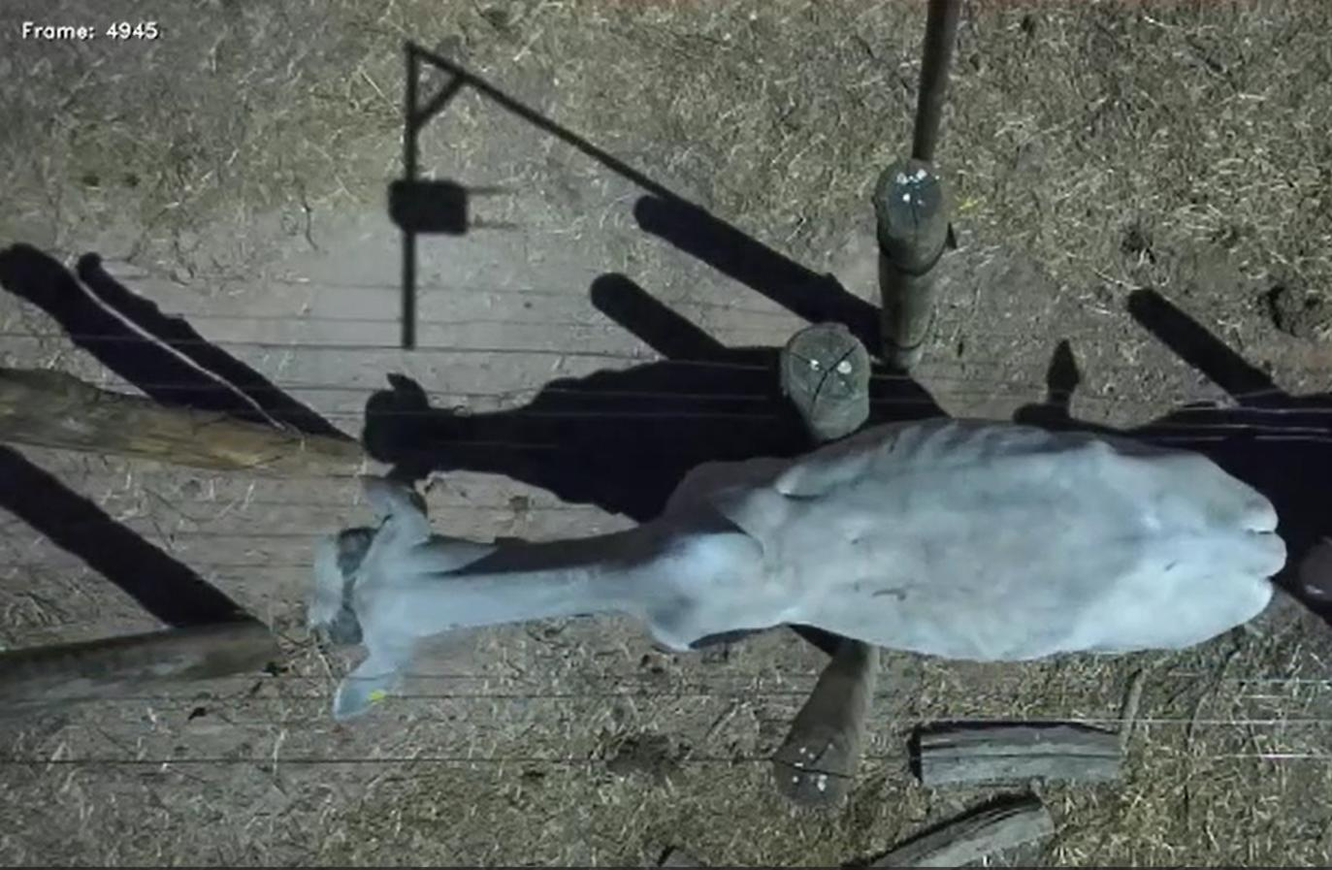cattle: (301, 394, 1306, 727)
